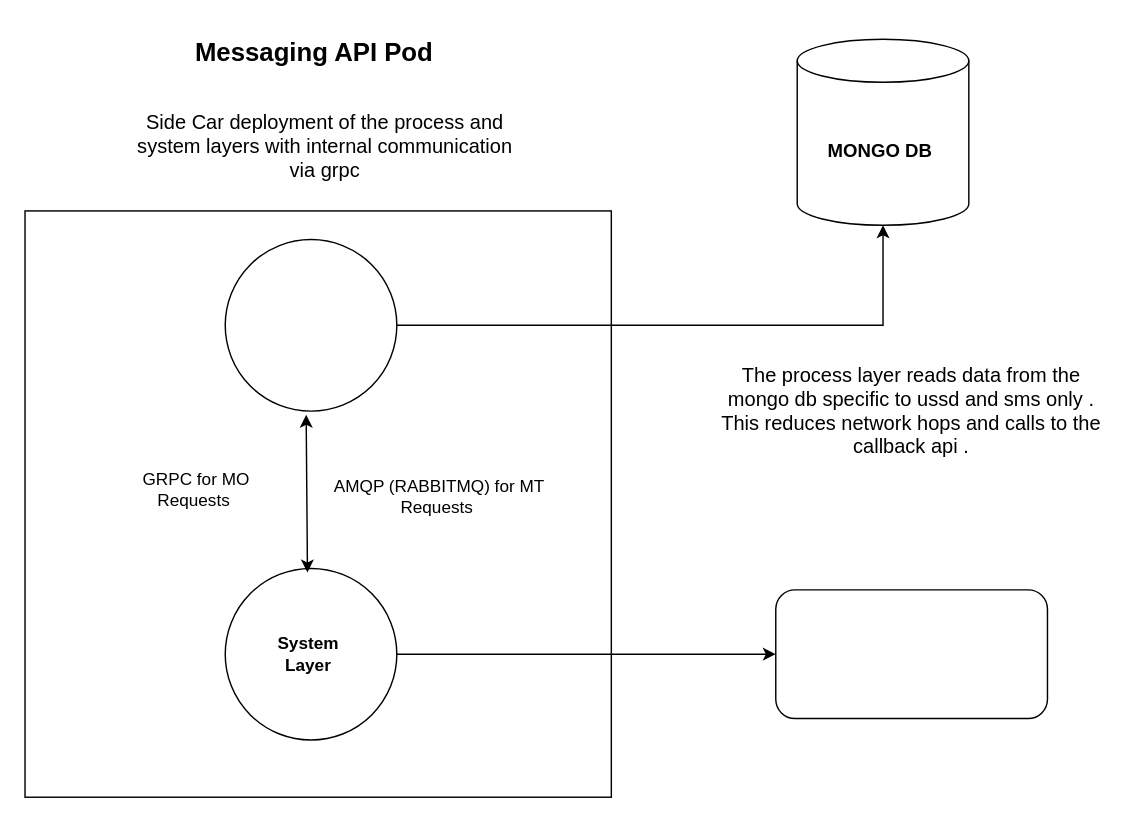
This 1137x822 diagram has some shape labels left out. The shapes that lost their labels are listed below. From the top down, each one's centre as x and y in pixels, then its label:
At (x=310, y=324): "Process Layer".
At (x=910, y=653): "USSD/SMS GATEWAYS".
